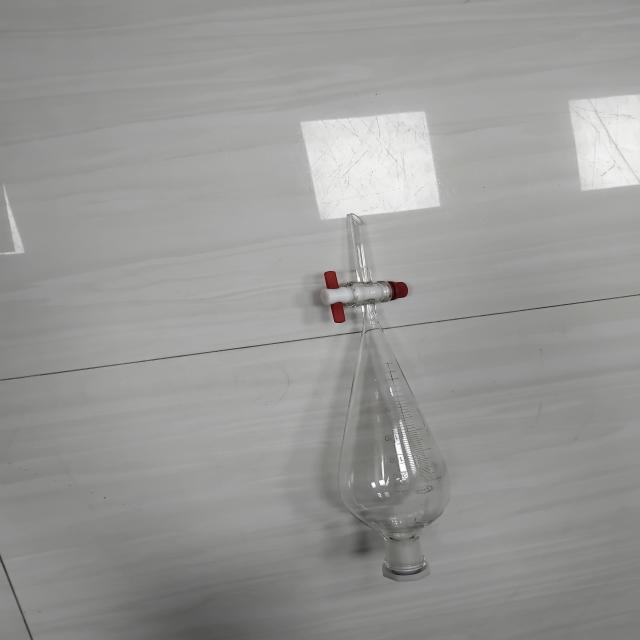Separating_Funnel: (288, 191, 515, 612)
